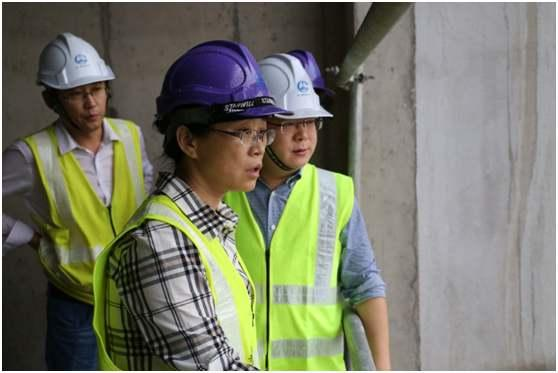helmet: (155, 38, 294, 129), (254, 52, 332, 119), (38, 33, 117, 91)
